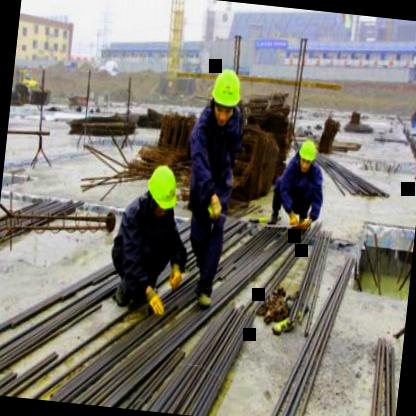helmet: (206, 62, 245, 128), (142, 158, 181, 221), (294, 134, 318, 176)
